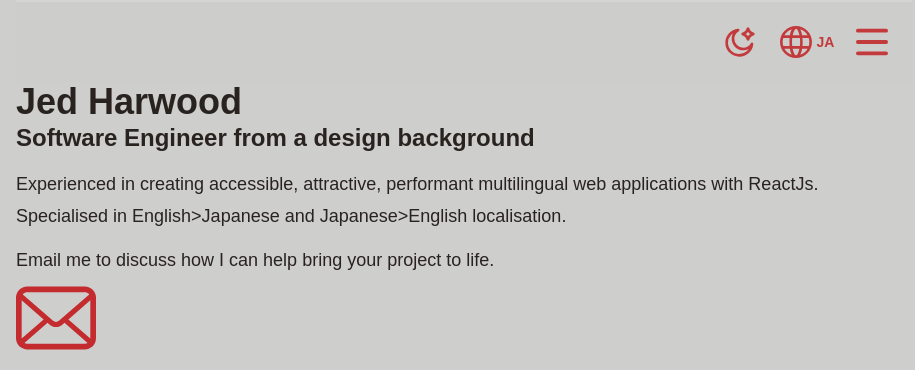
it: Navigation › should navigate to Projects Page
Expected: the heading "Jed Harwood" is shown, [16, 80, 242, 122]
Click the button named "Open main menu" at (872, 42), box [848, 18, 896, 66]
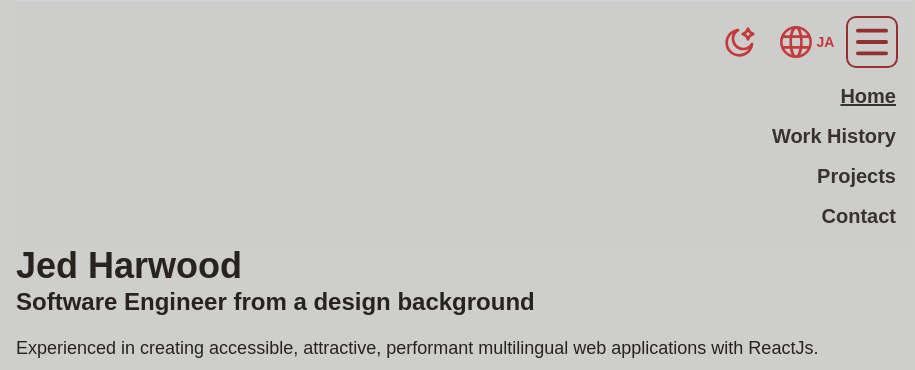
Click the link "Projects" at (857, 176), box [817, 162, 896, 190]
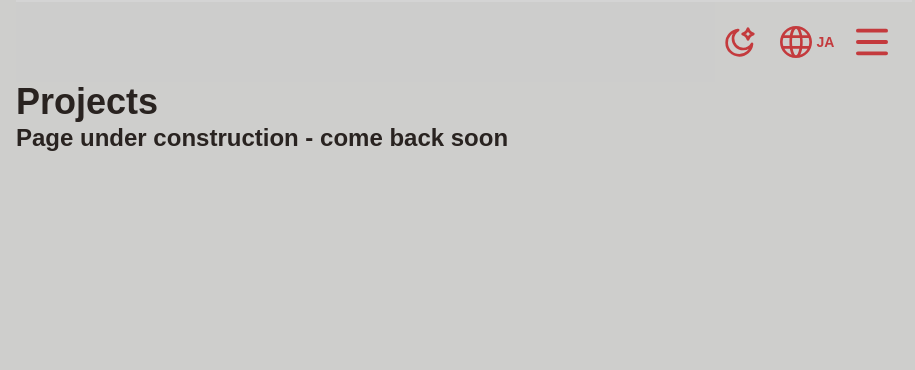
Expected: the heading "Projects" is shown, [16, 80, 158, 122]
